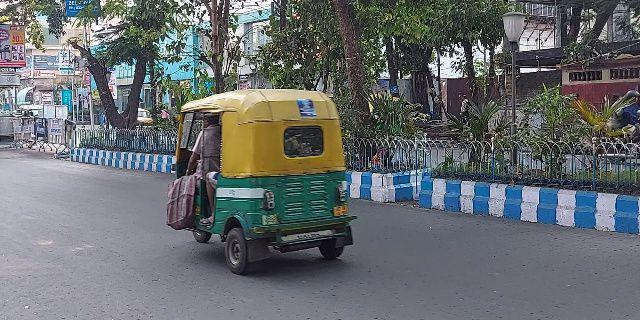Autorickshaw: (161, 85, 357, 275)
